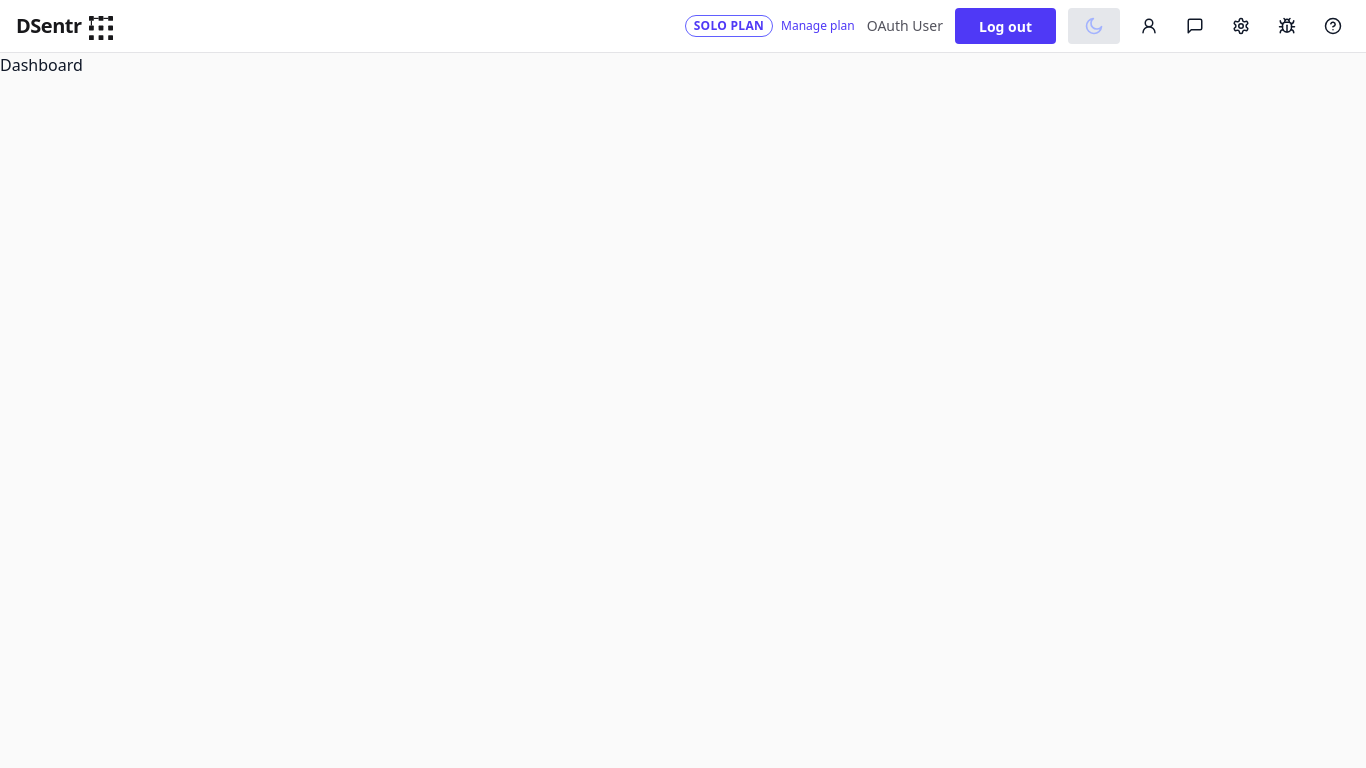
DashboardLayout profile modal › disables password changes for Google or GitHub accounts
Click the button named "open profile": point(1149, 26) [1132, 9, 1166, 43]
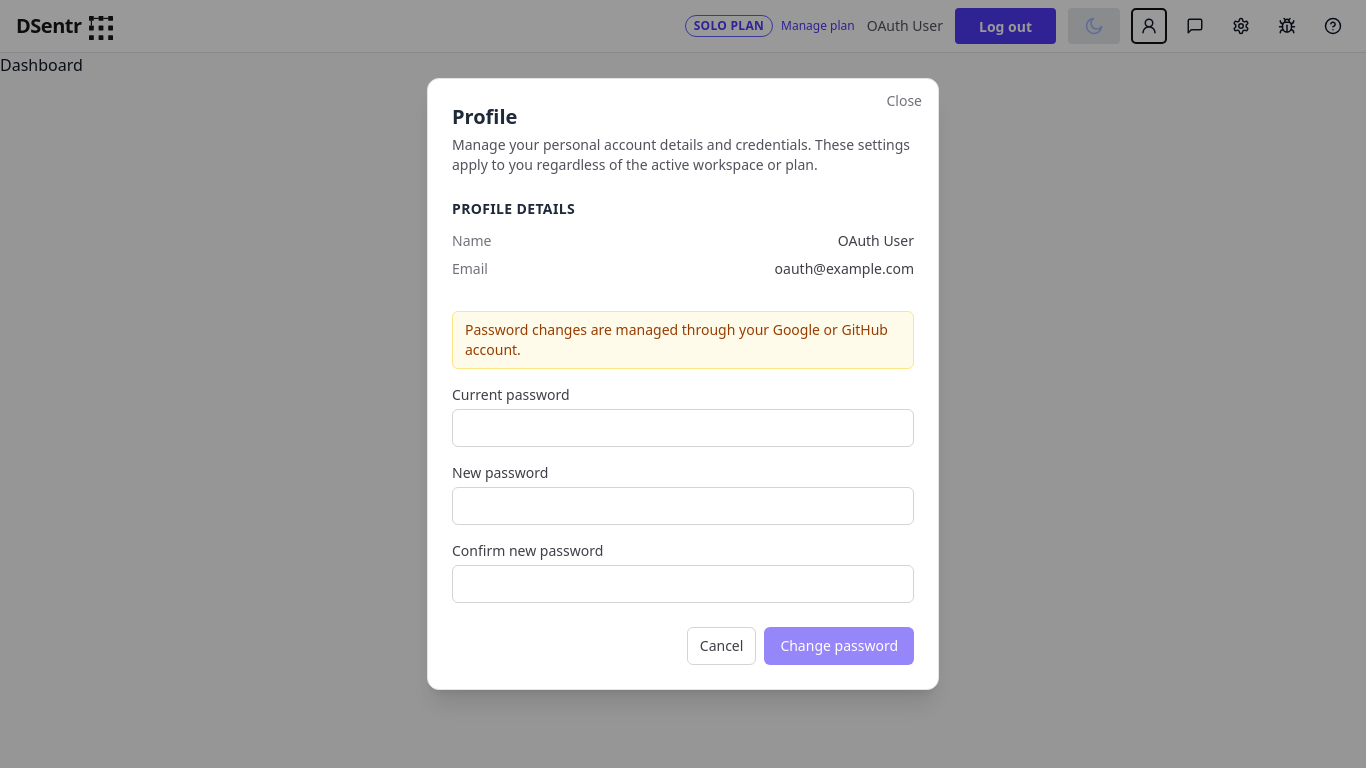
Expected: the password field labelled "Current password" is disabled, [452, 409, 914, 447]
Expected: the text "Password changes are managed" is shown, [465, 320, 888, 359]
Expected: the button "Change password" is disabled, [764, 627, 914, 665]
